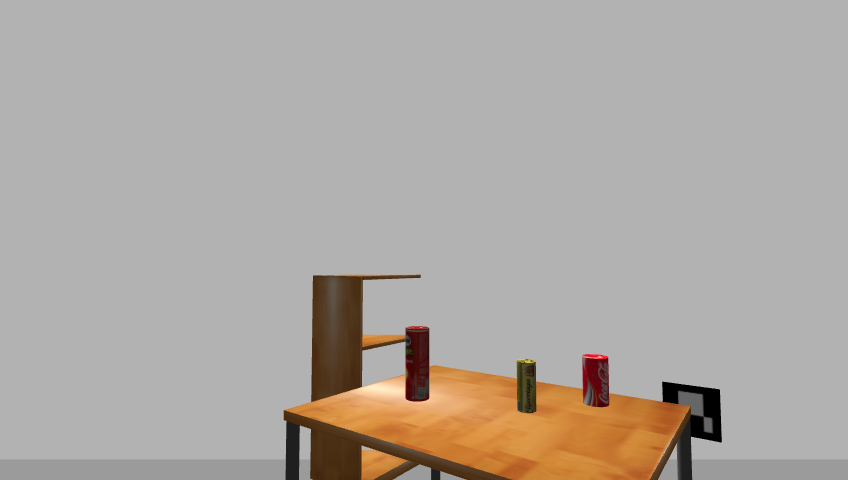aruco marker: (658, 379, 729, 445)
biscuits pack: (516, 359, 538, 415)
bookshelf: (302, 271, 425, 479)
coke can: (582, 354, 610, 408)
dinner table: (277, 368, 700, 480)
pringles can: (402, 325, 432, 404)
